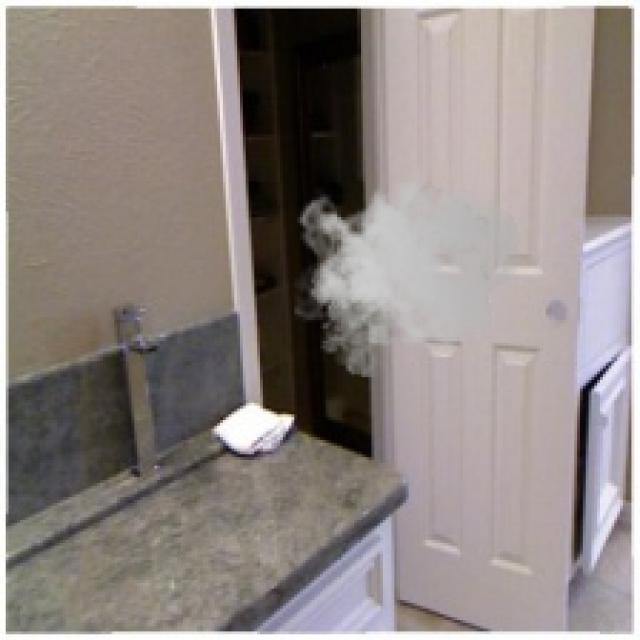Smoke: (294, 157, 523, 377)
